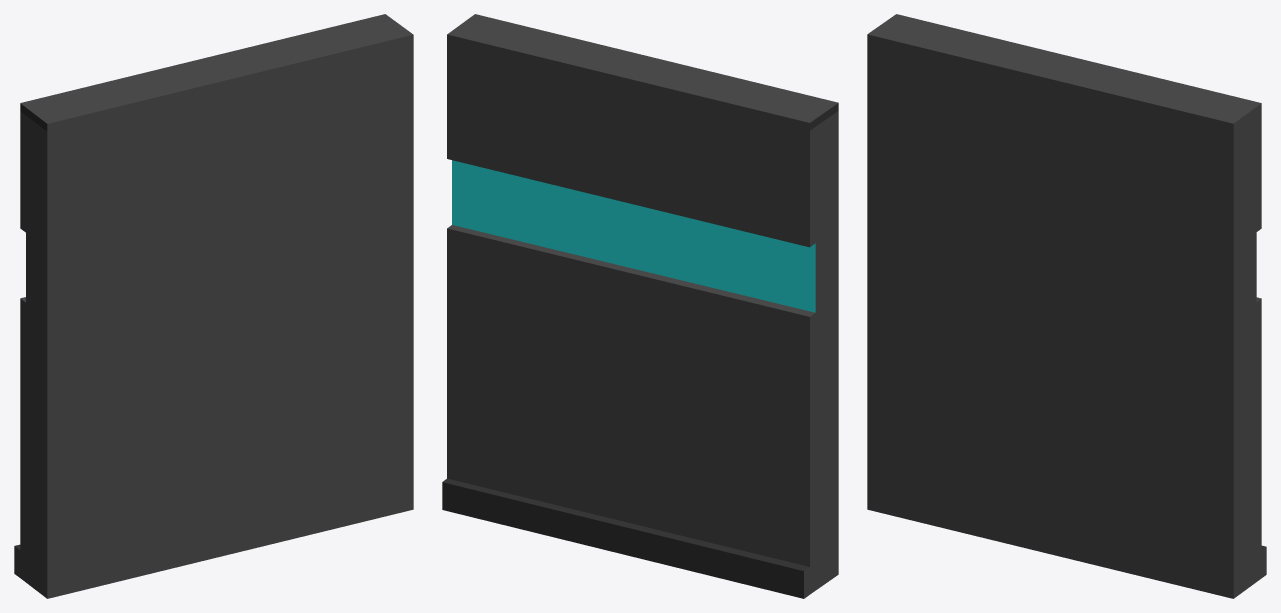
The model's file is WallNoEdge 1.fbx.
The picture shows the model from 3 angles, left to right: view 1: azimuth 30°, elevation 25°; view 2: azimuth 150°, elevation 25°; view 3: azimuth 330°, elevation 25°; orthographic projection.
Visible parts, largest first — view 1: pCube7; view 2: pCube7; view 3: pCube7.
Boxes of the visible parts, x1=… form: pCube7: x1=14, y1=14, x2=413, y2=598; pCube7: x1=442, y1=14, x2=838, y2=598; pCube7: x1=867, y1=14, x2=1266, y2=598.
Bounding box in the file's own units: 6.47 × 8.02 × 1.04.
